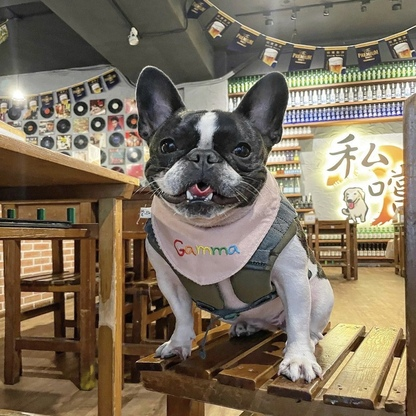bulldog: (132, 62, 336, 384)
